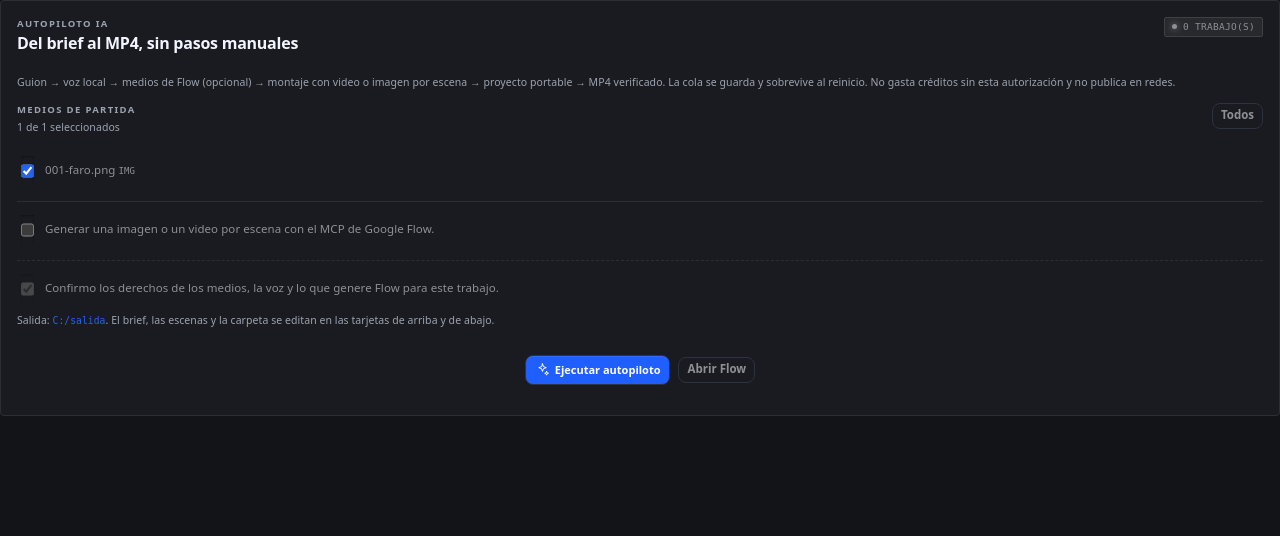
it: panel de autopiloto › monta los controles, los medios y el servidor MCP sin ejecutar nada
Expected: the text "Autopiloto IA" is shown, [17, 17, 109, 30]
Expected: the text "001-faro.png" is shown, [45, 162, 116, 177]
Click the checkbox labelled "Generar una imagen" at (28, 230), box [21, 215, 34, 245]
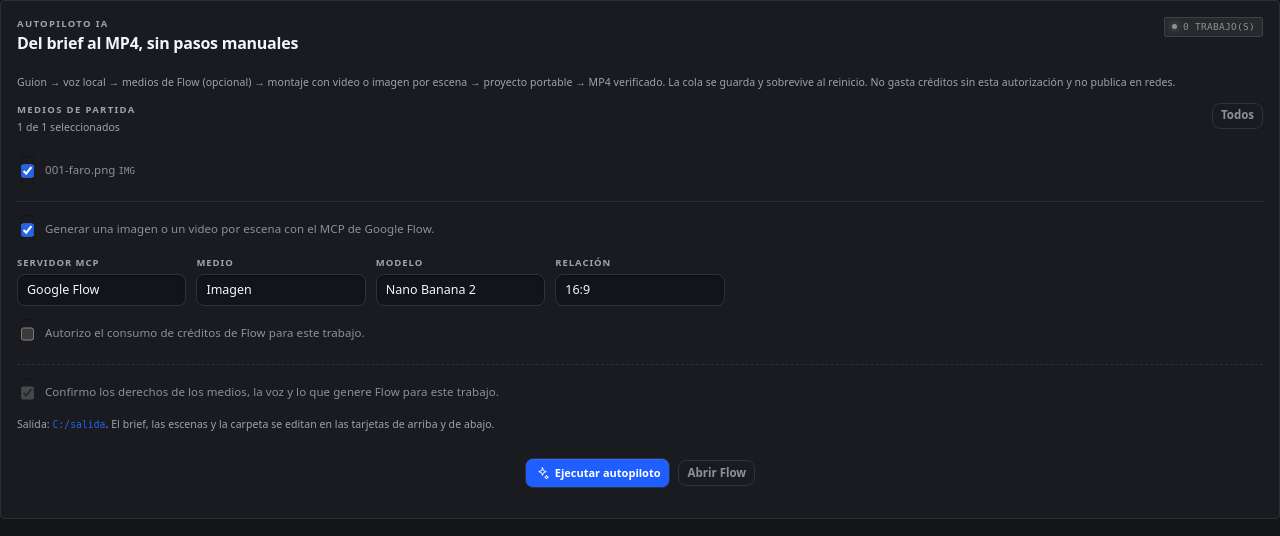
Expected: the button "Ejecutar autopiloto" is shown, [525, 458, 670, 488]
Now the text "Servidor MCP" is shown, box [17, 256, 99, 269]
